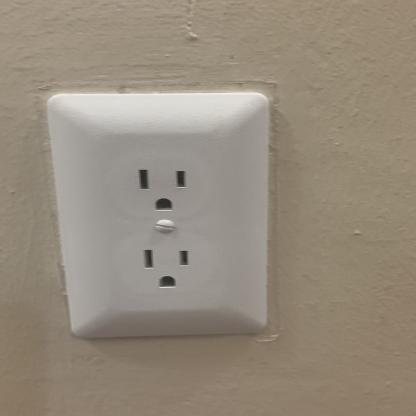OUTLET: (45, 90, 271, 340)
